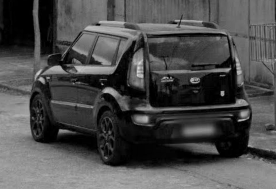car: (28, 23, 253, 167)
